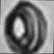correct: (2, 0, 53, 54)
